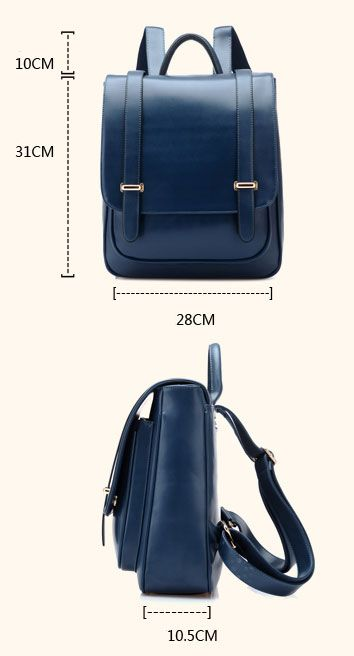cuero: (101, 25, 316, 598)
